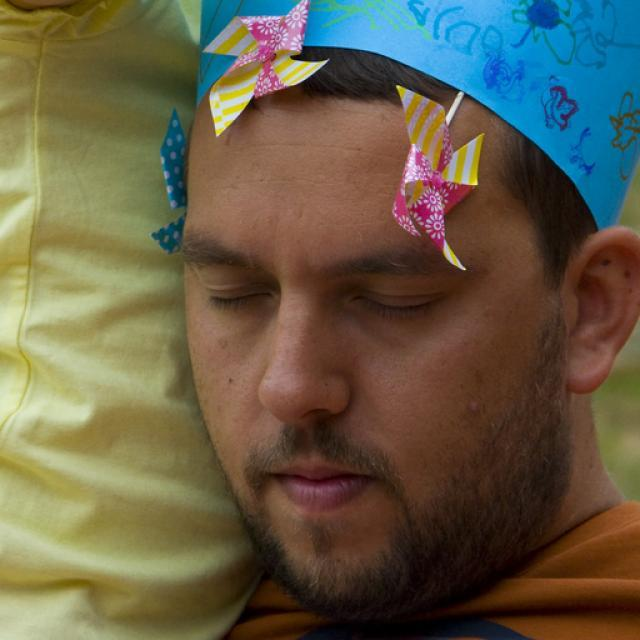anger: (178, 78, 568, 622)
